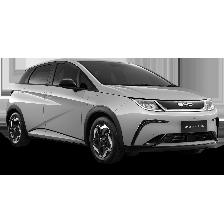EV: (7, 58, 221, 165)
